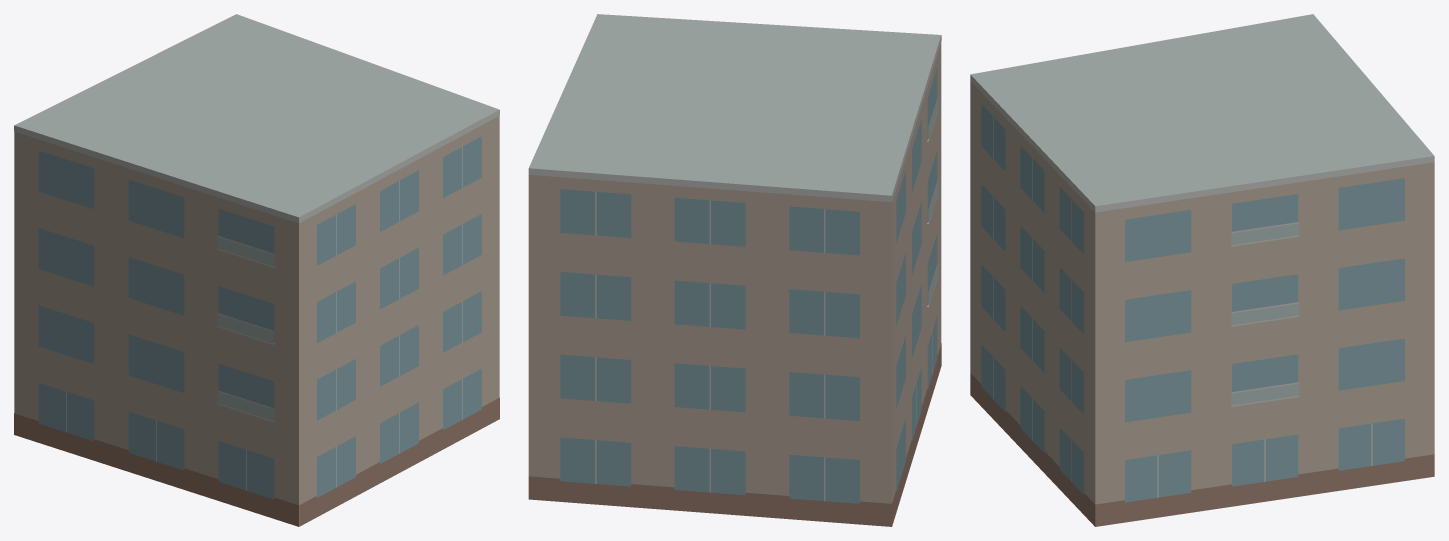
Rendered from survey-upis-32773669.glb.
3 views of the same model, side by side, from view 1: azimuth 30°, elevation 25°; view 2: azimuth 150°, elevation 25°; view 3: azimuth 270°, elevation 25° (orthographic). The views are drawn at different scales.
Visible parts, largest first — view 1: survey-upis-32773669.tmp; view 2: survey-upis-32773669.tmp; view 3: survey-upis-32773669.tmp.
Boxes of the visible parts, x1,y1,x2,y2 form: survey-upis-32773669.tmp: [14, 14, 499, 526]; survey-upis-32773669.tmp: [528, 14, 941, 526]; survey-upis-32773669.tmp: [970, 14, 1434, 526].
Size of the model in its own units: 16.22 by 12.6 by 16.55.
